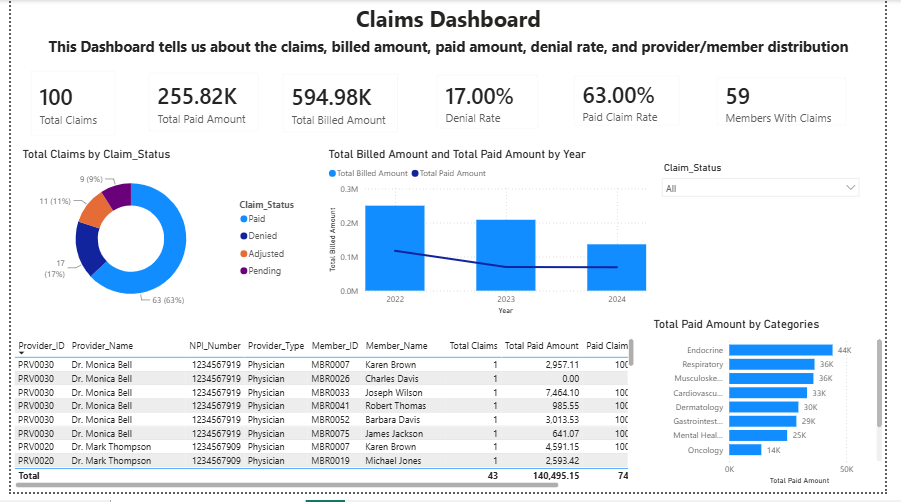

This screenshot's page, from the dashboard's own definition file:
{"tool":"powerbi","page":{"name":" Claims Summary Dashboard","canvas":[1280,720],"ordinal":0},"visuals":[{"type":"textbox","box":[0,0,1280,97.4],"z":0},{"type":"textbox","box":[0,48.6,1280,38.6],"z":1000},{"type":"cardVisual","fields":{"Data":["CLAIMS_TB.Total Claims"]},"box":[12.3,86.2,158.5,129.2],"z":2000},{"type":"cardVisual","fields":{"Data":["CLAIMS_TB.Total Paid Amount"]},"box":[184.6,89.2,195.4,120],"z":3000},{"type":"cardVisual","fields":{"Data":["CLAIMS_TB.Total Billed Amount"]},"box":[380,90.8,203.1,120],"z":4000},{"type":"cardVisual","fields":{"Data":["CLAIMS_TB.Denial Rate"]},"box":[606.2,92.3,183.1,113.8],"z":5000},{"type":"cardVisual","fields":{"Data":["CLAIMS_TB.Paid Claim Rate"]},"box":[806.2,93.8,189.2,107.7],"z":6000},{"type":"cardVisual","fields":{"Data":["CLAIMS_TB.Members With Claims"]},"box":[1015.4,96.9,224.6,104.6],"z":7000},{"type":"lineClusteredColumnComboChart","fields":{"Category":["DATE_TB.Year"],"Y":["CLAIMS_TB.Total Billed Amount"],"Y2":["CLAIMS_TB.Total Paid Amount"]},"box":[460,215.4,475.4,249.2],"z":8000},{"type":"donutChart","fields":{"Category":["CLAIMS_TB.Claim_Status"],"Y":["CLAIMS_TB.Total Claims"]},"box":[12.3,215.4,424.6,249.2],"z":9000},{"type":"tableEx","fields":{"Values":["PROVIDER_TB.Provider_ID","PROVIDER_TB.Provider_Name","PROVIDER_TB.NPI_Number","PROVIDER_TB.Provider_Type","MEMBER_TB.Member_ID","MEMBER_TB.Member_Name","CLAIMS_TB.Total Claims","CLAIMS_TB.Total Paid Amount","CLAIMS_TB.Paid Claim Rate","CLAIMS_TB.Denial Rate"]},"box":[0,490.8,916.9,229.2],"z":10000},{"type":"barChart","title":"Total Paid Amount by Categories","fields":{"Category":["DIAGNOSIS_TB.Major_Category"],"Y":["CLAIMS_TB.Total Paid Amount"]},"box":[935.4,464.6,344.6,249.2],"z":11000},{"type":"slicer","fields":{"Values":["CLAIMS_TB.Claim_Status"]},"box":[943.1,232.3,309.2,153.8],"z":12000}]}

Visuals, with their boxes in screenshot pixels (x1, y1, x2, y2), scaled from the page's 1280x720 canvas onto the 901x502 screenshot:
textbox: BBox(0, 0, 900, 68)
textbox: BBox(0, 34, 900, 61)
cardVisual - CLAIMS_TB.Total Claims: BBox(9, 60, 120, 150)
cardVisual - CLAIMS_TB.Total Paid Amount: BBox(130, 62, 267, 146)
cardVisual - CLAIMS_TB.Total Billed Amount: BBox(267, 63, 410, 147)
cardVisual - CLAIMS_TB.Denial Rate: BBox(427, 64, 556, 144)
cardVisual - CLAIMS_TB.Paid Claim Rate: BBox(567, 65, 701, 140)
cardVisual - CLAIMS_TB.Members With Claims: BBox(715, 68, 873, 140)
lineClusteredColumnComboChart - DATE_TB.Year x CLAIMS_TB.Total Billed Amount: BBox(324, 150, 658, 324)
donutChart - CLAIMS_TB.Claim_Status x CLAIMS_TB.Total Claims: BBox(9, 150, 308, 324)
tableEx - PROVIDER_TB.Provider_ID x PROVIDER_TB.Provider_Name: BBox(0, 342, 645, 501)
"Total Paid Amount by Categories" barChart: BBox(658, 324, 900, 498)
slicer - CLAIMS_TB.Claim_Status: BBox(664, 162, 882, 269)
